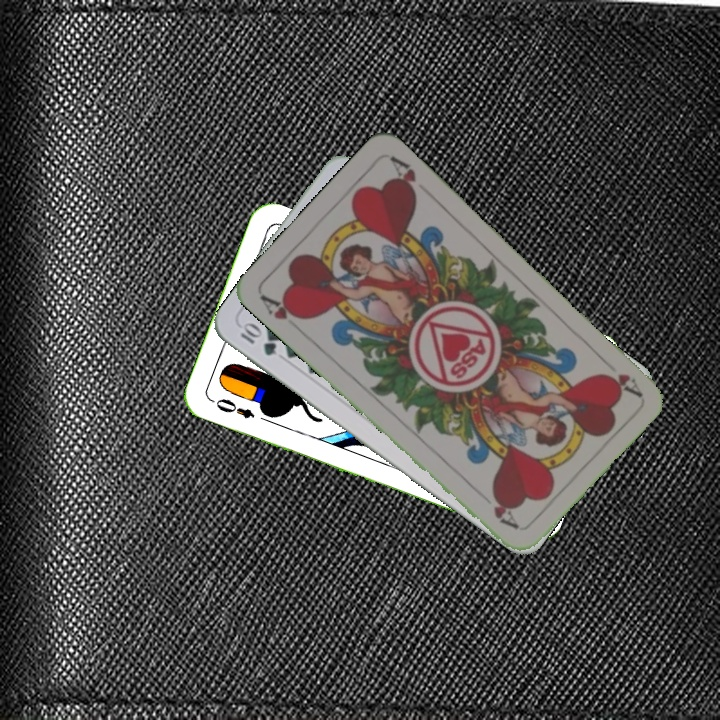EO: (207, 394, 257, 422)
G10: (236, 319, 279, 359)
HA: (596, 352, 643, 399), (256, 290, 309, 324)
